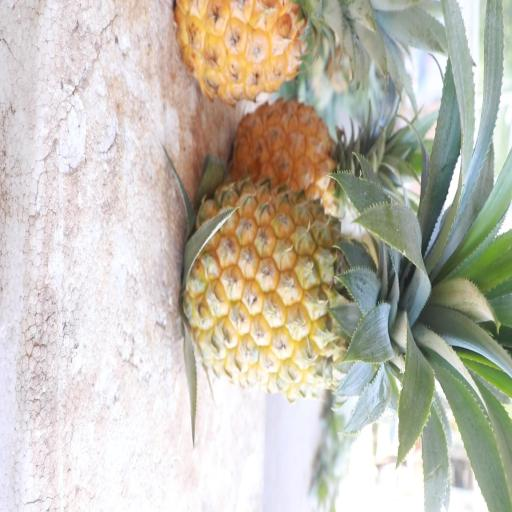Pineapple - v8 v1: (178, 181, 416, 407), (174, 0, 368, 108), (231, 99, 370, 239), (244, 98, 244, 99)
